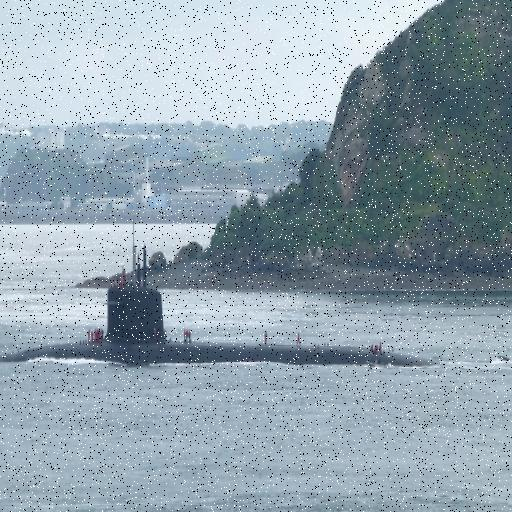submarine: (1, 218, 427, 364)
